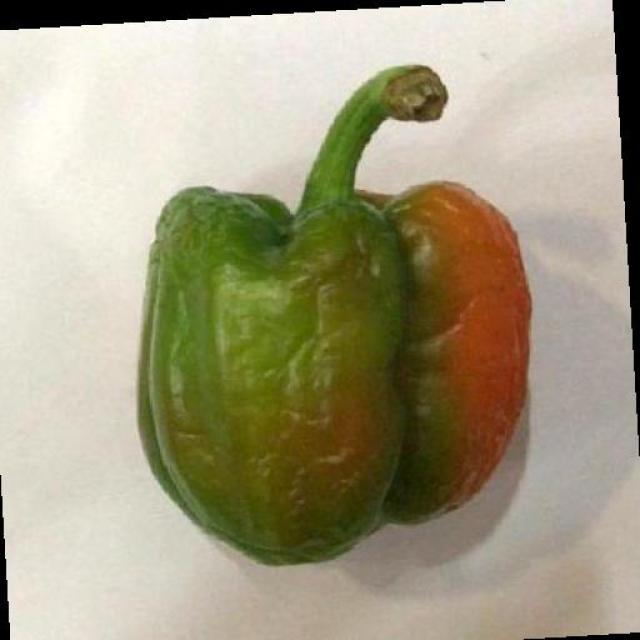Stale_Capsicum: (127, 136, 537, 580)
